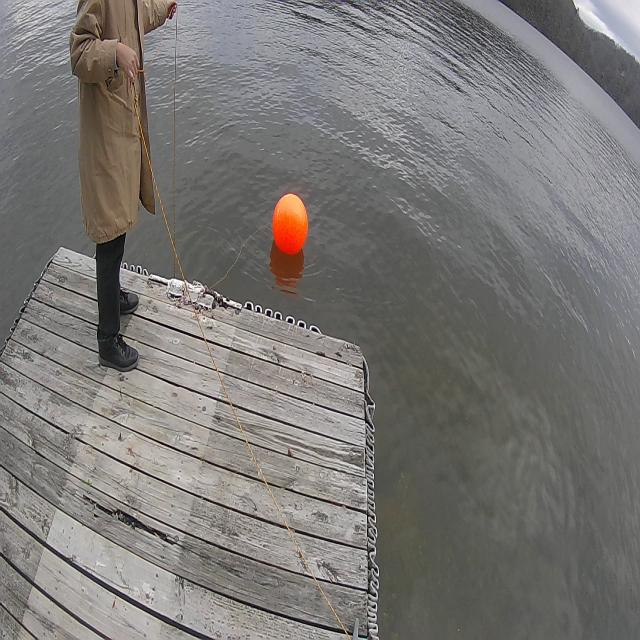Buoy: (271, 188, 309, 260)
